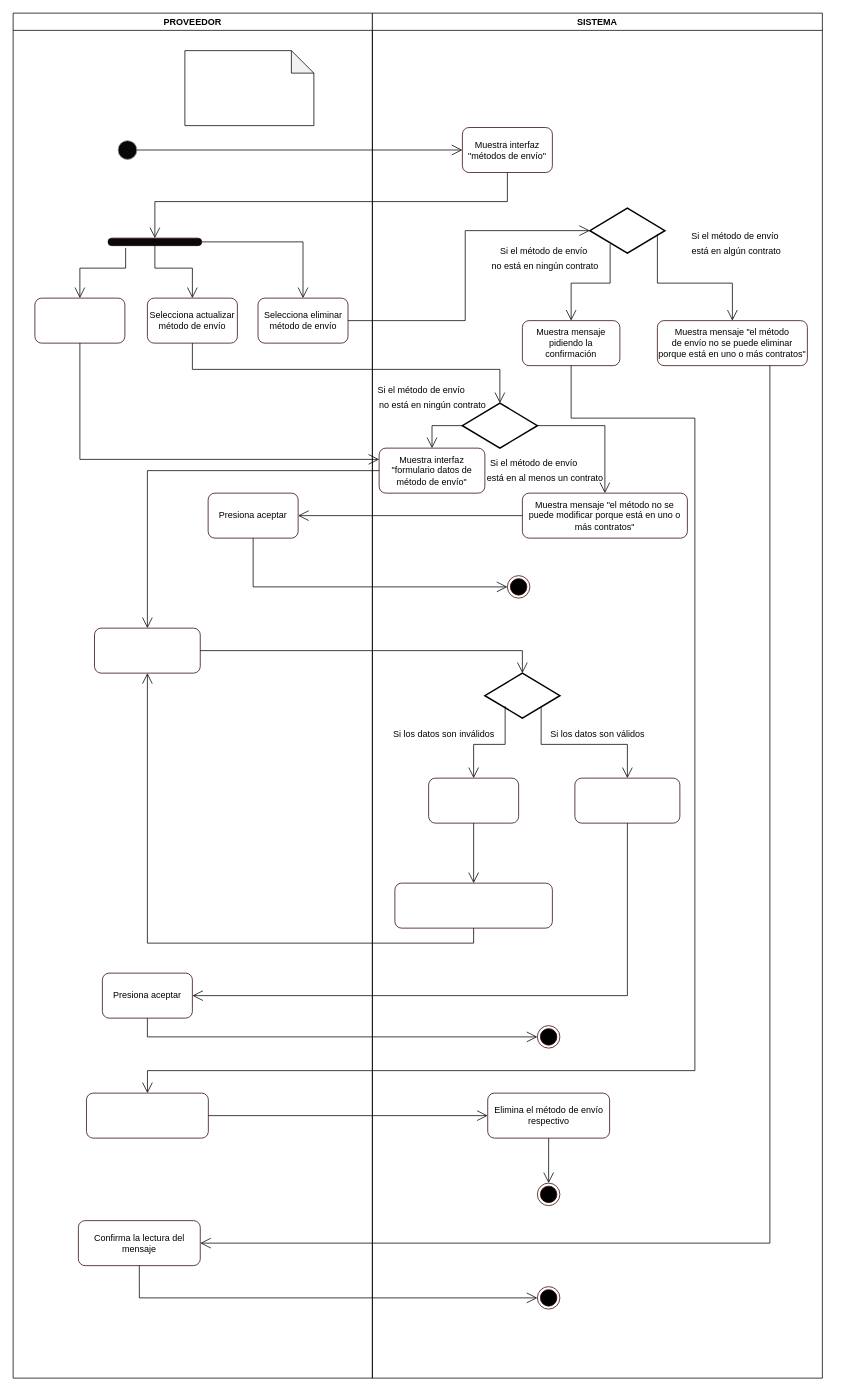
The diagram is 866 pixels wide and 1391 high, and some of its shapes have lost their labels. The shapes that lost their labels are listed below. From the top down, each one's box as (x1, y1, x2, y2) in pixels, then its label:
(184, 50, 314, 126): Este flujo se inicia cuando el proveedor selecciona métodos de envío
(34, 297, 125, 343): Selecciona crear método de envío
(94, 627, 200, 673): Ingresa datos
(428, 777, 519, 823): Muestra mensaje "datos inválidos"
(574, 777, 680, 823): Muestra mensaje "operación realizada con éxito"
(394, 882, 552, 928): Resalta los datos inválidos y muestra el formato adecuado
(86, 1092, 208, 1138): Confirma la realización de la acción
